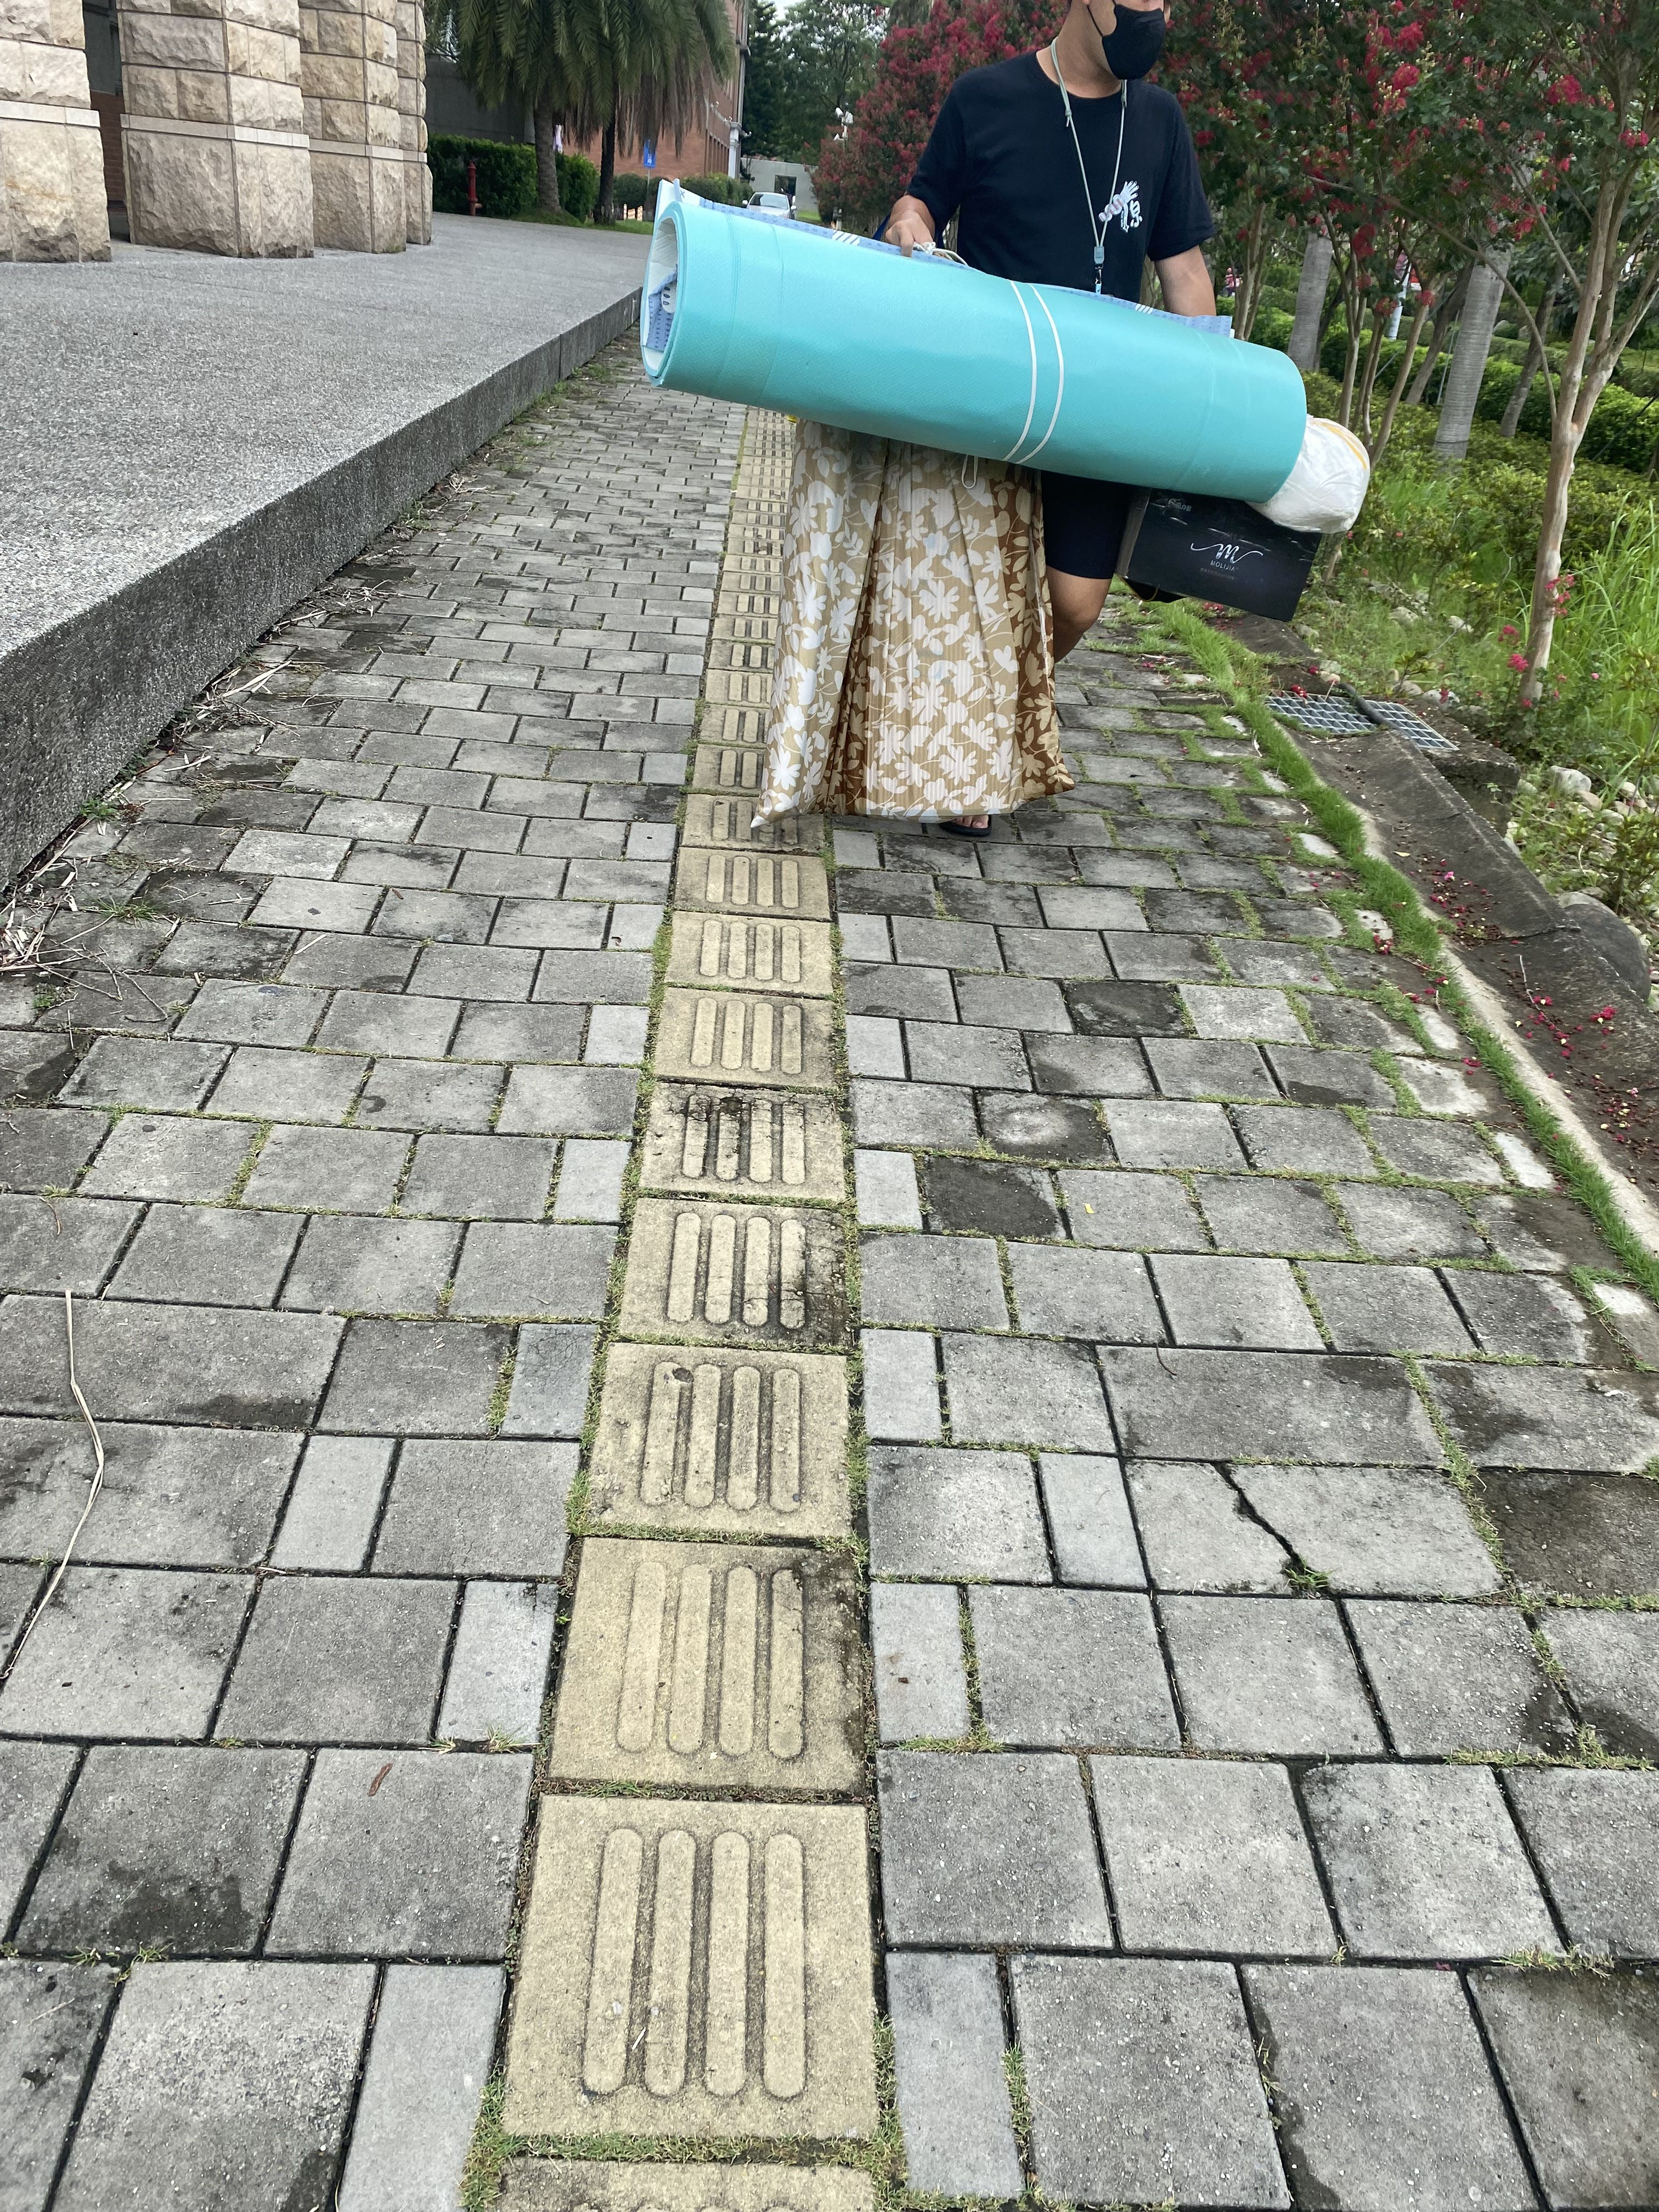sidewalk: (0, 327, 1659, 2212)
